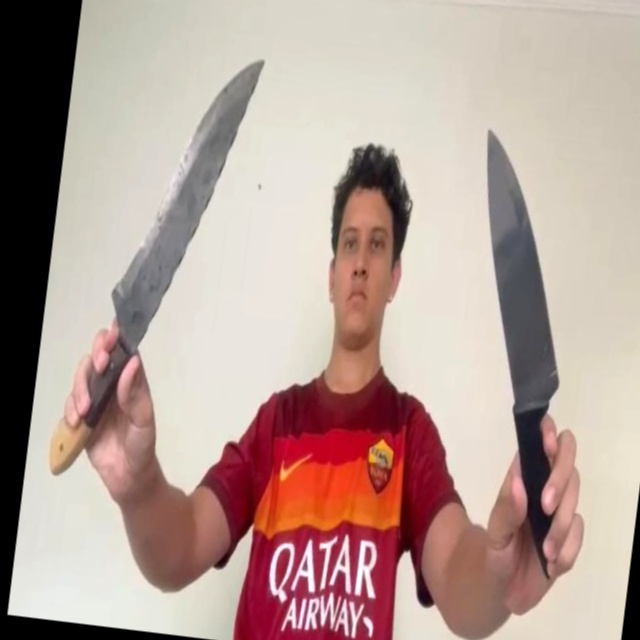Sharp-Object: (105, 42, 265, 347), (456, 124, 588, 396)
